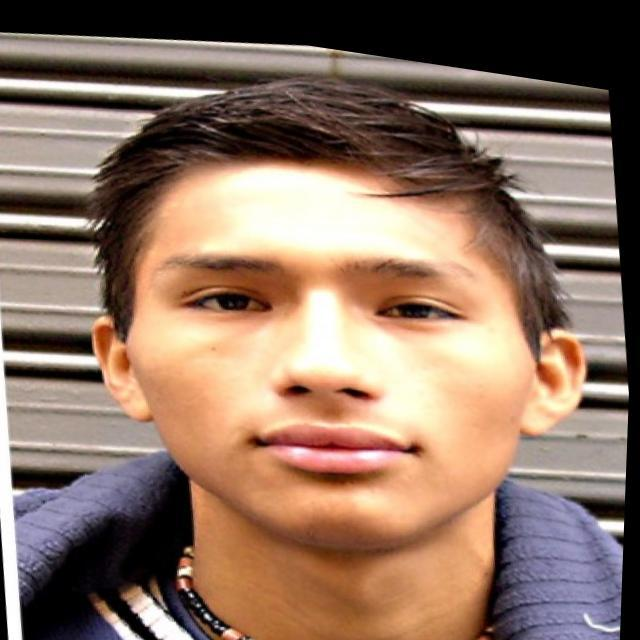Nonhelmet: (72, 79, 598, 558)
